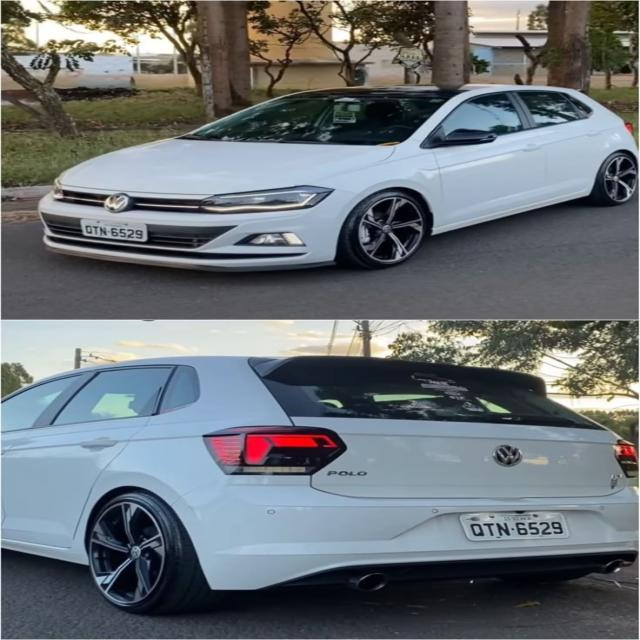Placas: (456, 510, 582, 543), (78, 218, 148, 245)
